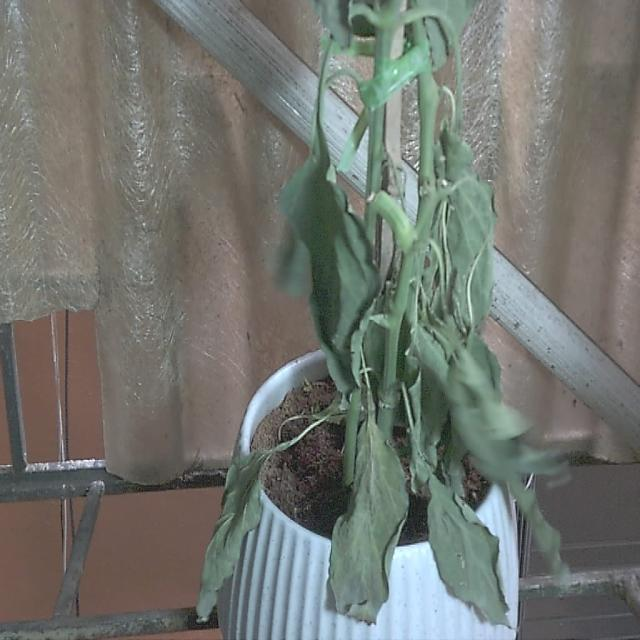Leaf: (329, 422, 408, 624), (193, 449, 273, 625), (427, 468, 511, 631)
